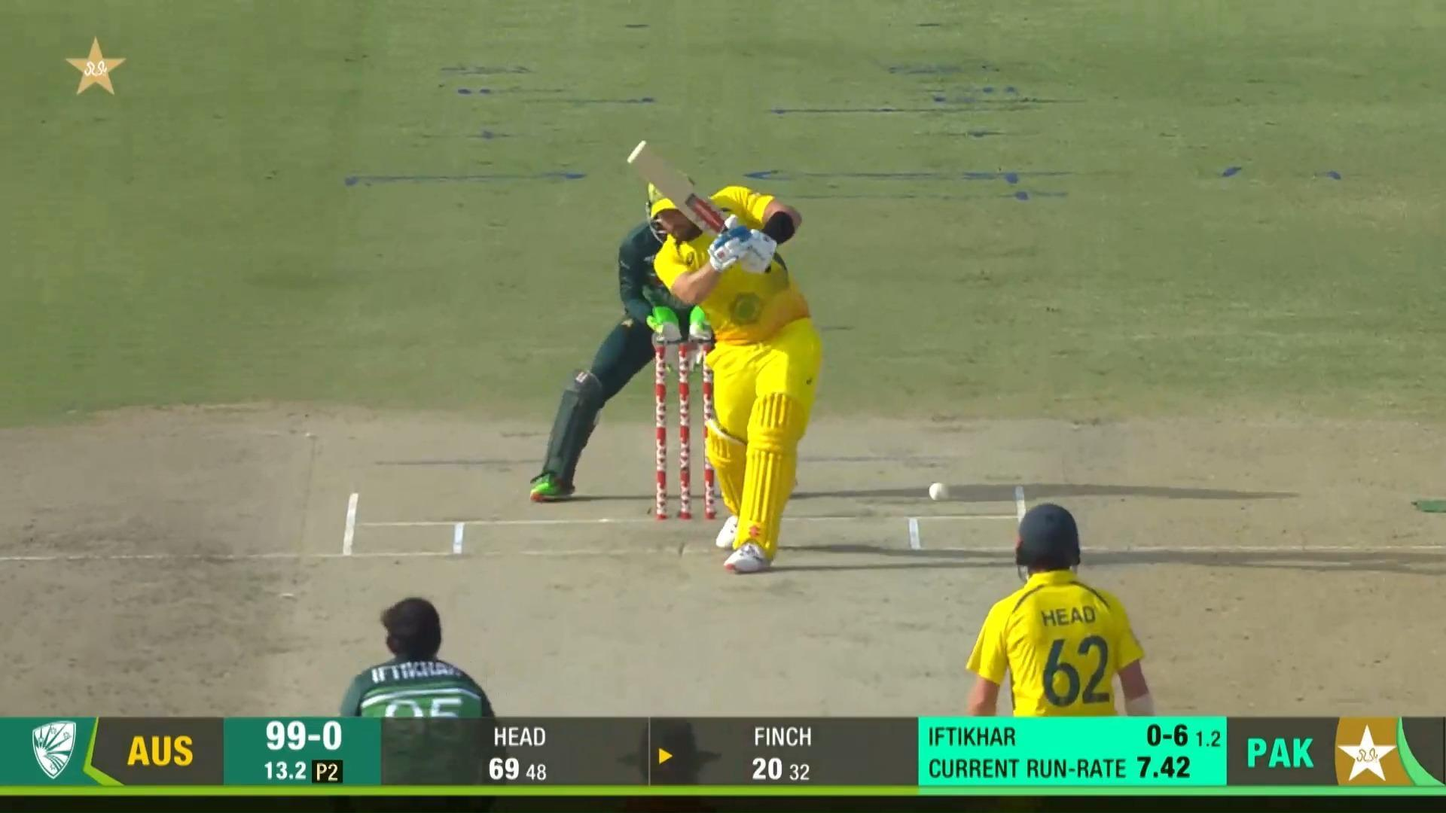BM 1: (627, 139, 825, 574)
BO: (338, 594, 499, 808)
